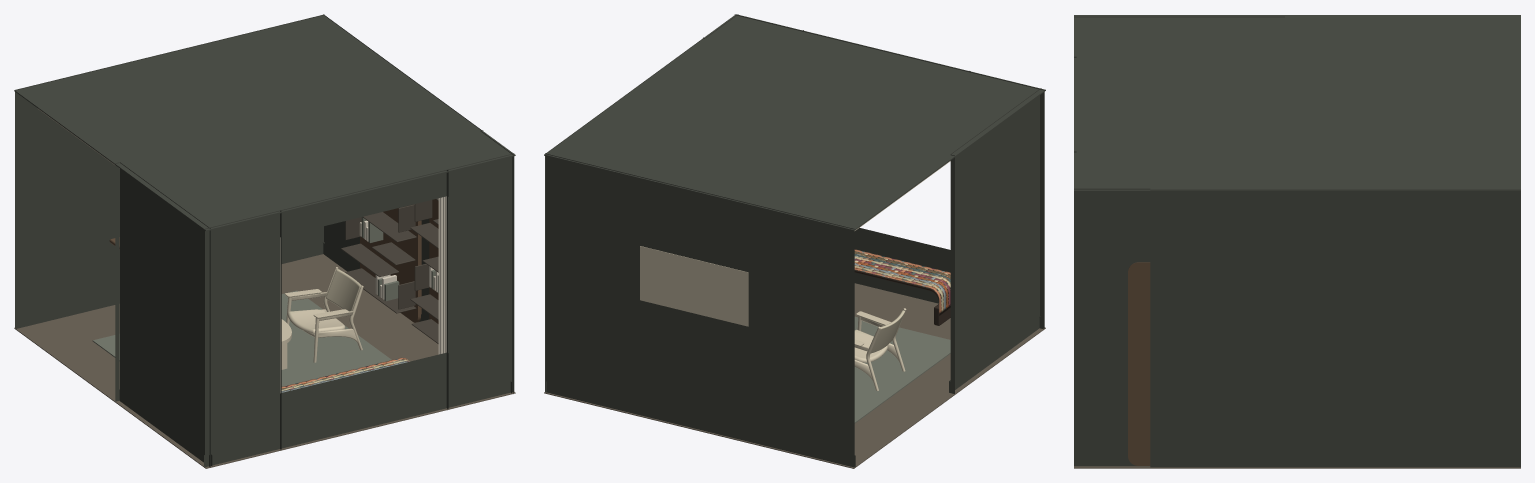
The model's file is formal-3.glb.
The picture shows the model from 3 angles, left to right: view 1: azimuth 30°, elevation 25°; view 2: azimuth 150°, elevation 25°; view 3: azimuth 270°, elevation 25°; orthographic projection. The views are drawn at different scales.
Parts seen in each view (by area): view 1: DESIGN | formal removable wall finish, DESIGN | formal ceiling finish, DESIGN | formal floor finish, DESIGN | Required Blabla bookcase 2, DESIGN | Formal ground, DESIGN | Conversation chair east, DESIGN | Required Blabla bookcase 1, DESIGN | Formal soft window edge.001, DESIGN | Required Brera anniversary window bench; view 2: DESIGN | formal removable wall finish, DESIGN | formal ceiling finish, DESIGN | formal floor finish, DESIGN | Quiet artwork frame, DESIGN | Formal ground, DESIGN | Required Brera anniversary window bench, DESIGN | Conversation chair west; view 3: DESIGN | formal removable wall finish, DESIGN | formal ceiling finish, DESIGN | Required Blabla bookcase 1, DESIGN | formal floor finish.
Part boxes in pixels (box(x1,y1,x2,y2)): DESIGN | formal removable wall finish: box(15, 14, 514, 466); DESIGN | formal ceiling finish: box(14, 15, 515, 231); DESIGN | formal floor finish: box(14, 254, 515, 468); DESIGN | Required Blabla bookcase 2: box(341, 204, 421, 322); DESIGN | Formal ground: box(92, 290, 391, 386); DESIGN | Conversation chair east: box(285, 267, 363, 362); DESIGN | Required Blabla bookcase 1: box(410, 198, 438, 343); DESIGN | Formal soft window edge.001: box(438, 196, 446, 354); DESIGN | Required Brera anniversary window bench: box(281, 357, 409, 392); DESIGN | formal removable wall finish: box(545, 14, 1044, 467); DESIGN | formal ceiling finish: box(544, 14, 1045, 231); DESIGN | formal floor finish: box(544, 283, 1045, 468); DESIGN | Quiet artwork frame: box(640, 246, 748, 326); DESIGN | Formal ground: box(854, 316, 950, 423); DESIGN | Required Brera anniversary window bench: box(854, 249, 950, 325); DESIGN | Conversation chair west: box(854, 308, 906, 390); DESIGN | formal removable wall finish: box(1074, 16, 1520, 467); DESIGN | formal ceiling finish: box(1074, 15, 1520, 191); DESIGN | Required Blabla bookcase 1: box(1128, 262, 1150, 465); DESIGN | formal floor finish: box(1074, 466, 1520, 468).
Size of the model in its own units: 3.71 by 2.74 by 3.98.
